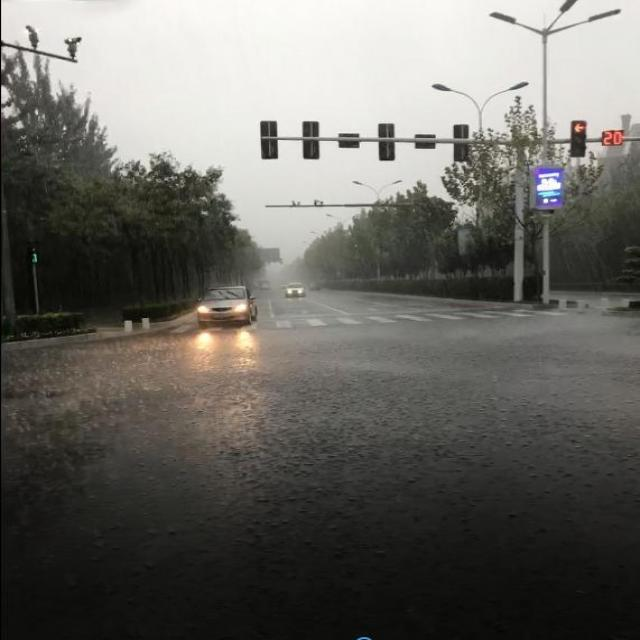car: (195, 284, 258, 323), (281, 282, 307, 298), (257, 279, 268, 289), (310, 282, 320, 290)
